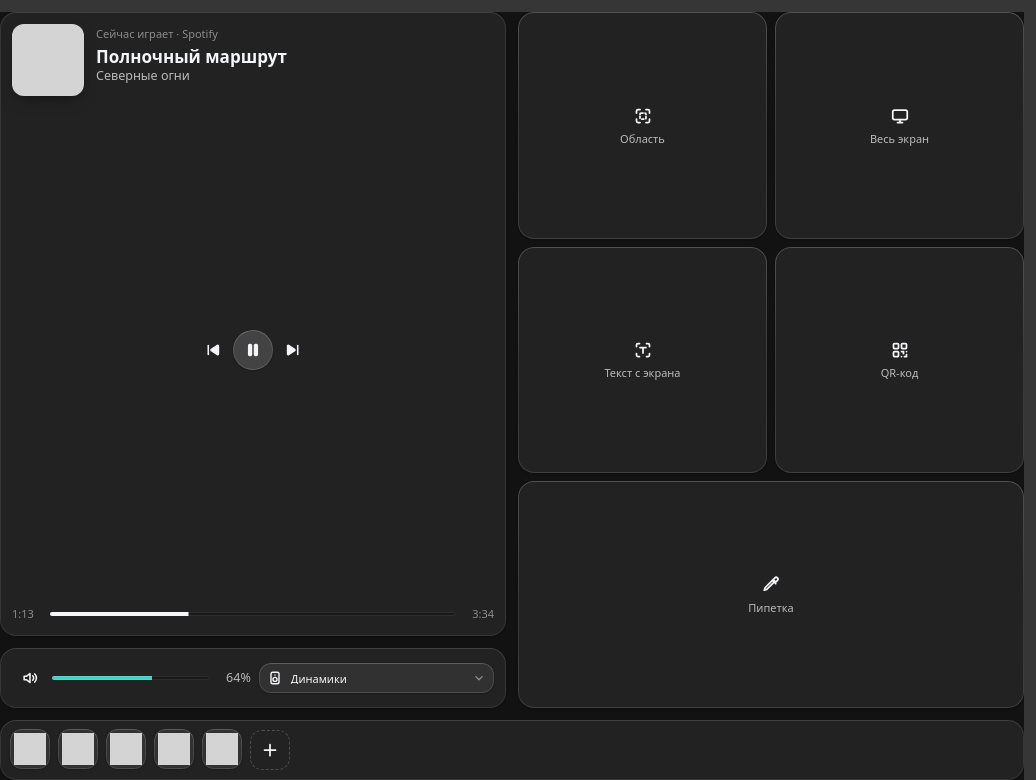
Test: Home tab: player › next switches the track (media://changed)
Expected: the text "Полночный маршрут" is shown, [96,44,287,68]
Expected: the slider named "Громкость" holds "64", [52,668,209,688]
Click the button named "Следующий трек" at (293, 350), box [277,334,309,366]
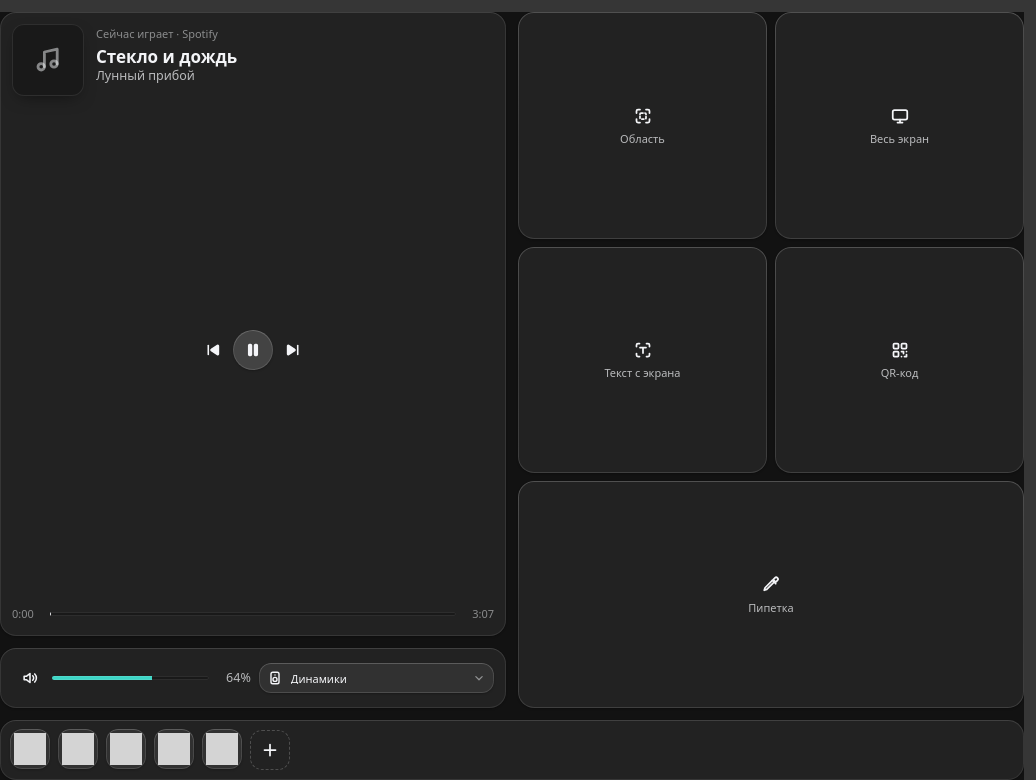
Expected: the text "Стекло и дождь" is shown, [96,44,237,68]
